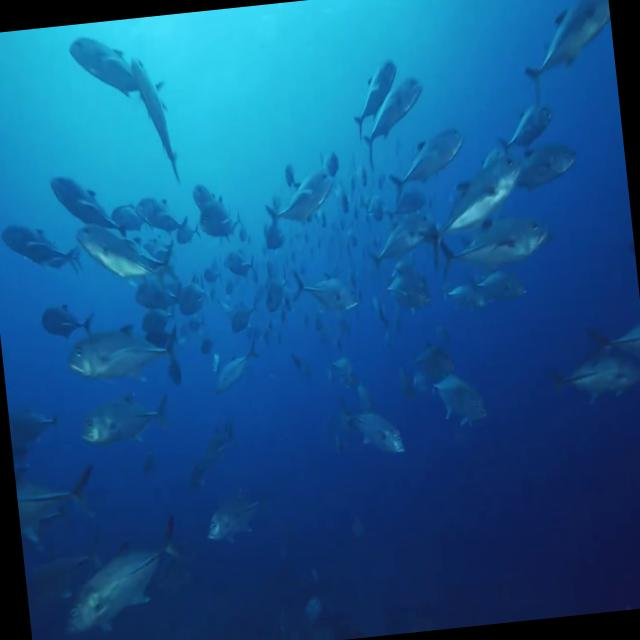fish: (418, 142, 532, 262), (63, 26, 178, 120), (517, 0, 617, 99), (65, 320, 184, 386), (77, 211, 179, 283), (386, 124, 470, 210), (131, 53, 178, 184), (356, 75, 429, 159), (77, 386, 179, 446), (347, 56, 401, 134)
